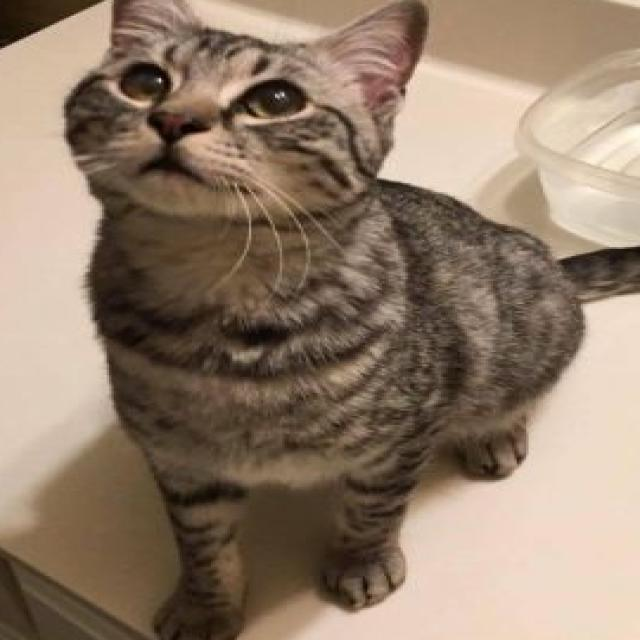Egyptian Mau: (57, 0, 640, 640)
